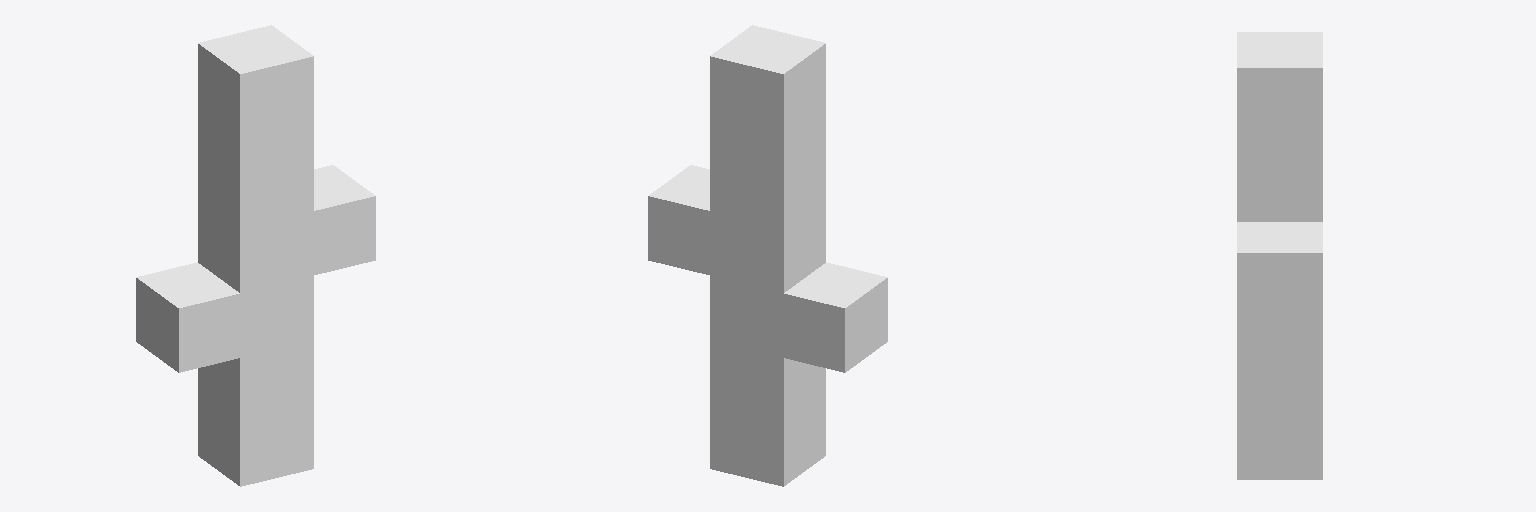
File: enemybullet-1-3.obj
3 renders of one model, left to right at view 1: azimuth 30°, elevation 25°; view 2: azimuth 150°, elevation 25°; view 3: azimuth 270°, elevation 25°, orthographic.
Visible parts, largest first — view 1: 3; view 2: 3; view 3: 3.
Boxes of the visible parts, x1=… form: 3: x1=136, y1=25, x2=375, y2=486; 3: x1=648, y1=25, x2=887, y2=486; 3: x1=1237, y1=32, x2=1322, y2=479.
Size of the model in its own units: 1.6 by 3.2 by 0.6.